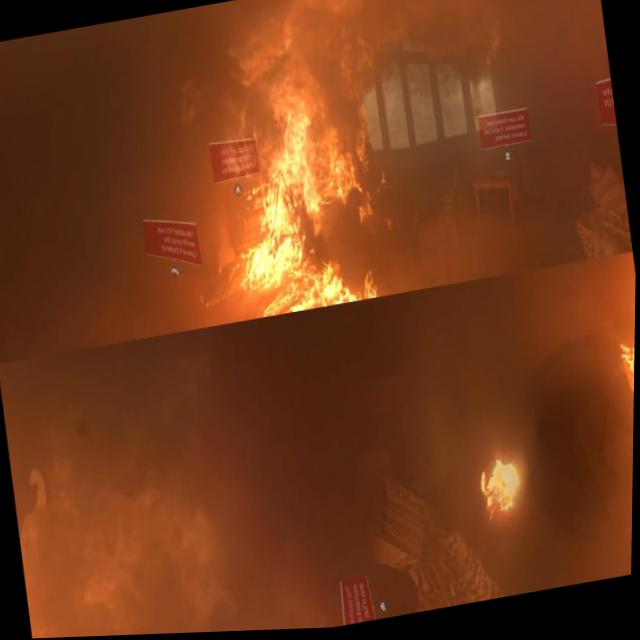fire: (180, 26, 406, 330), (476, 449, 537, 532)
